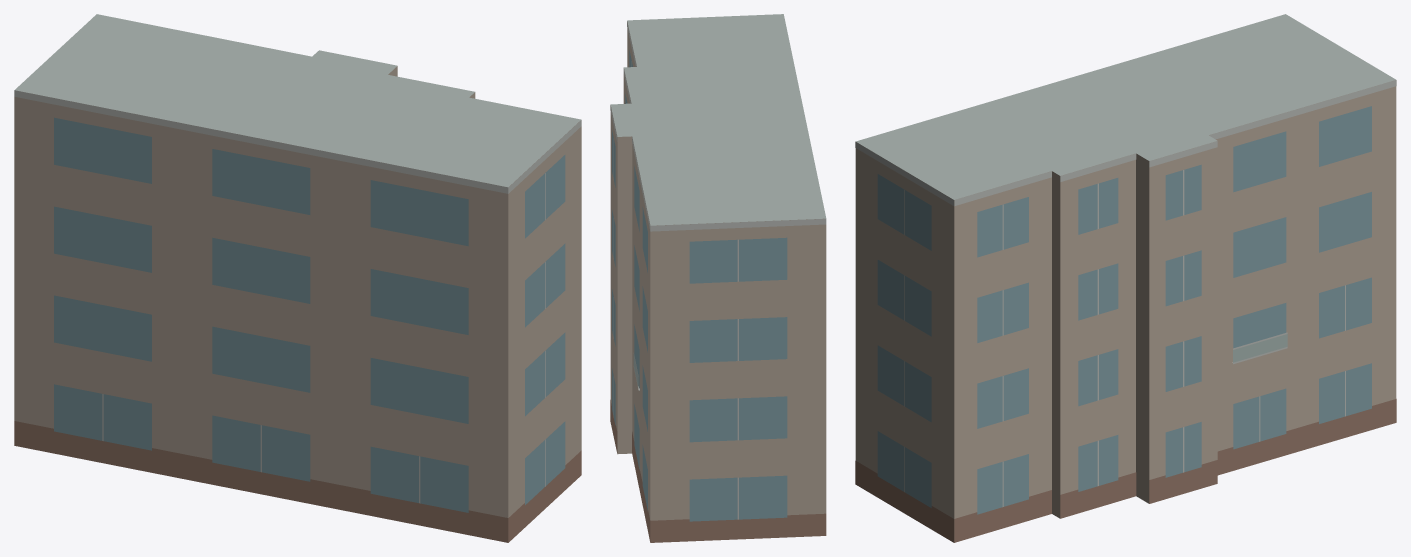
File: survey-upis-32827374.glb
3 renders of one model, left to right at view 1: azimuth 30°, elevation 25°; view 2: azimuth 150°, elevation 25°; view 3: azimuth 270°, elevation 25°, orthographic. The views are drawn at different scales.
Visible parts, largest first — view 1: survey-upis-32827374.tmp; view 2: survey-upis-32827374.tmp; view 3: survey-upis-32827374.tmp.
Boxes of the visible parts, bbox=[...] form: survey-upis-32827374.tmp: bbox=[14, 14, 581, 542]; survey-upis-32827374.tmp: bbox=[610, 14, 826, 542]; survey-upis-32827374.tmp: bbox=[855, 14, 1396, 542].
Bounding box in the file's own units: 15.37 × 13.2 × 18.88.
